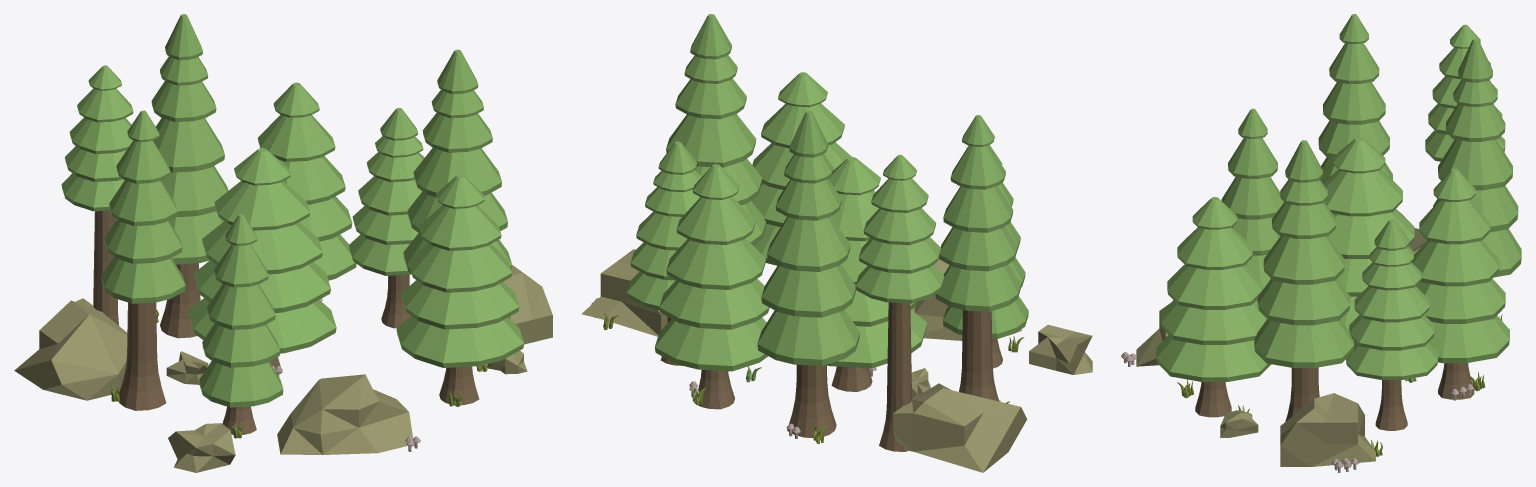
The model's file is ForrestD.fbx.
The picture shows the model from 3 angles, left to right: view 1: azimuth 30°, elevation 25°; view 2: azimuth 150°, elevation 25°; view 3: azimuth 270°, elevation 25°; orthographic projection. The views are drawn at different scales.
Parts seen in each view (by area): view 1: ForrestA; view 2: ForrestA; view 3: ForrestA.
Part boxes in pixels (box(x1,y1,x2,y2)): ForrestA: box(14, 14, 552, 472); ForrestA: box(581, 14, 1092, 472); ForrestA: box(1121, 14, 1521, 472).
Size of the model in its own units: 4441 by 2994 by 3538.
